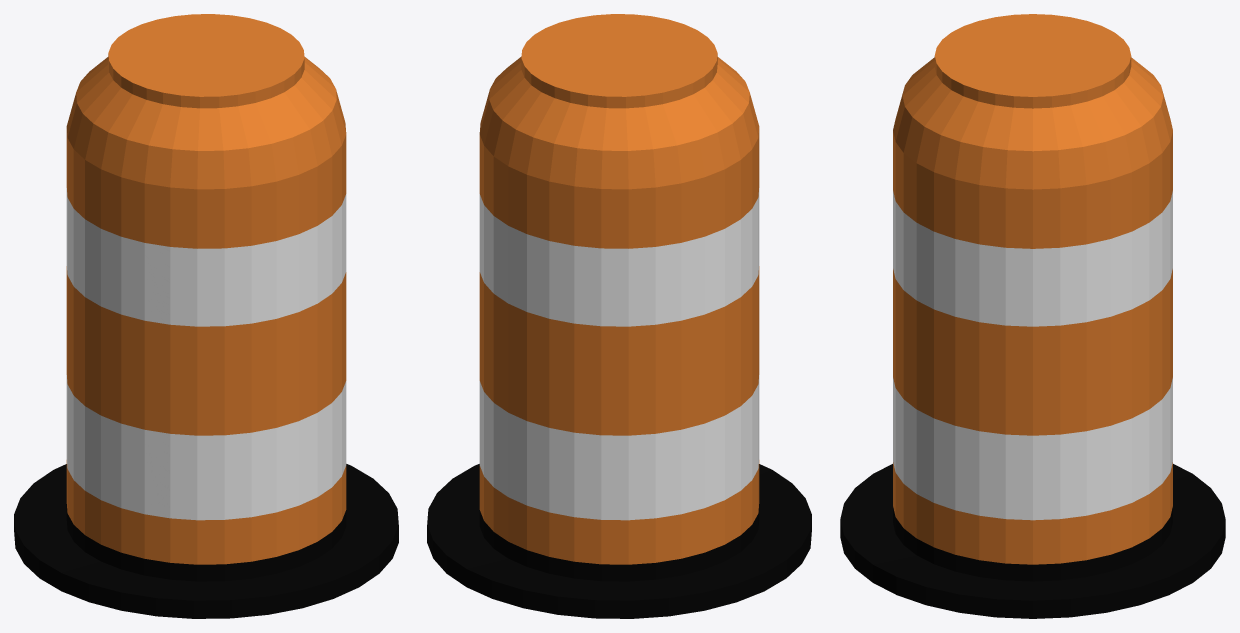
Rendered from roadblock_cylinder.fbx.
3 views of the same model, side by side, from view 1: azimuth 30°, elevation 25°; view 2: azimuth 150°, elevation 25°; view 3: azimuth 270°, elevation 25° (orthographic).
Visible parts, largest first — view 1: cylinders; view 2: cylinders; view 3: cylinders.
Part boxes in pixels (bbox=[...]): cylinders: bbox=[14, 14, 398, 618]; cylinders: bbox=[427, 14, 811, 618]; cylinders: bbox=[840, 14, 1225, 618].
Size of the model in its own units: 203 by 280 by 203.
